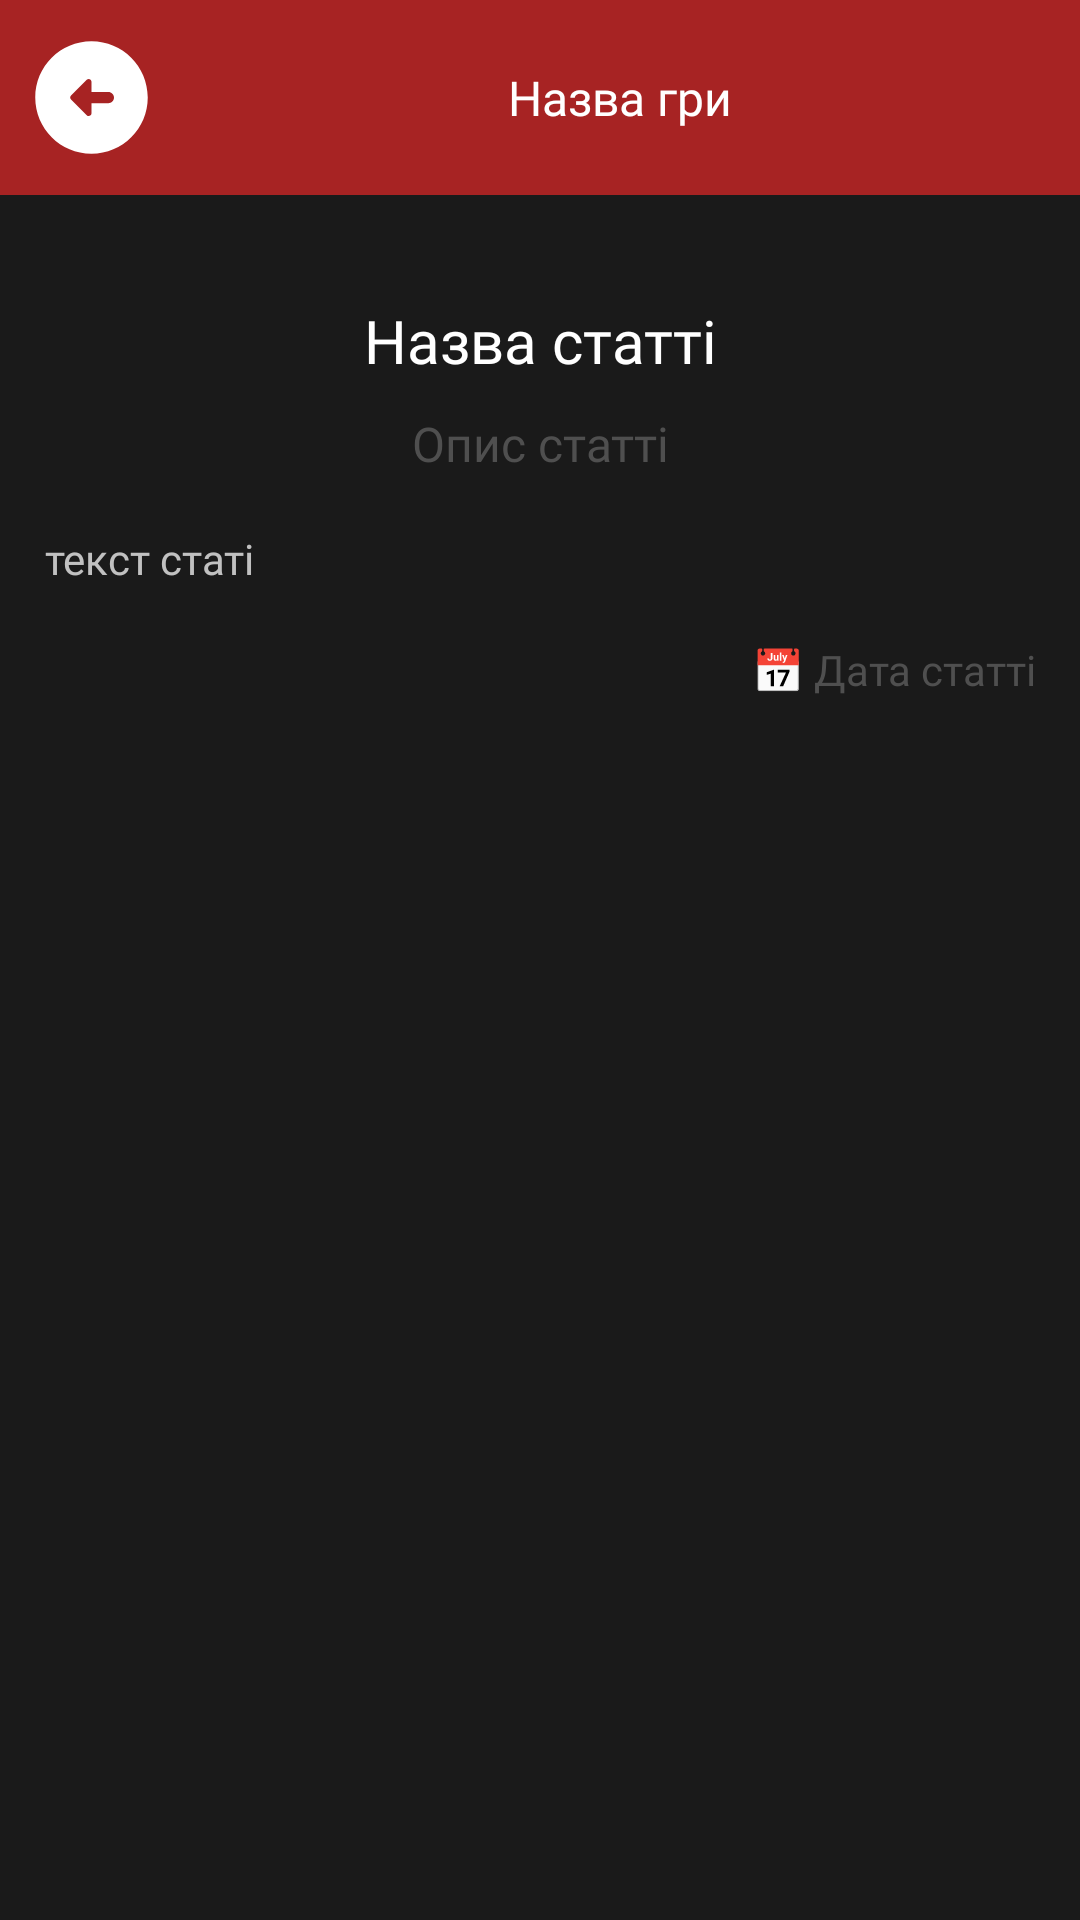

Screen size 1080x1920. Icon name, then its box in pixels as (x1, y1, x2, y2):
arrow left: (35, 41, 148, 154)
